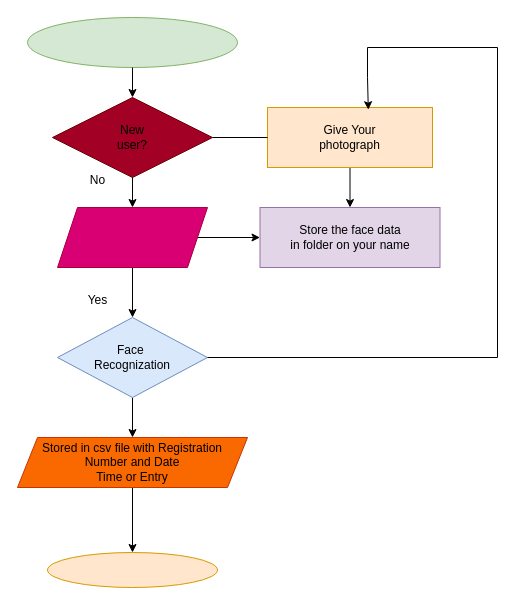
Some shapes in this 516 by 605 pixel diagram are drawn without their labels. Here are the shapes that lost their labels. From the top down, the centre of each, then its label:
[132,42]: Start
[132,237]: Recognize the face
[132,570]: End
